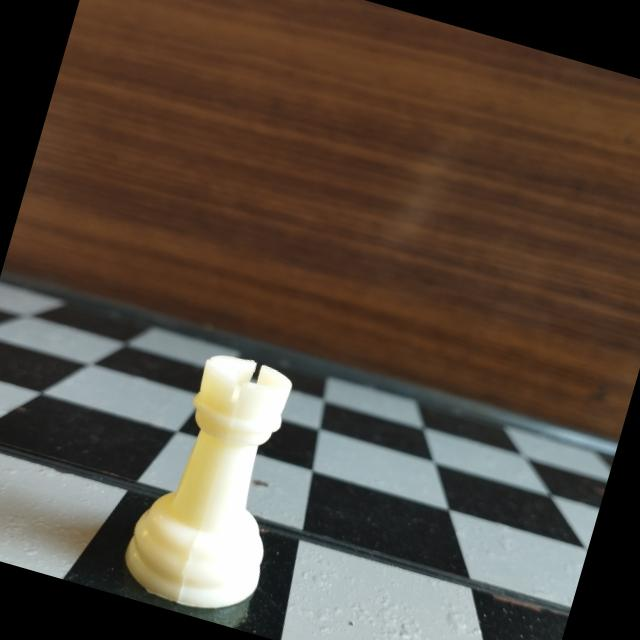White Rook: (109, 334, 324, 626)
